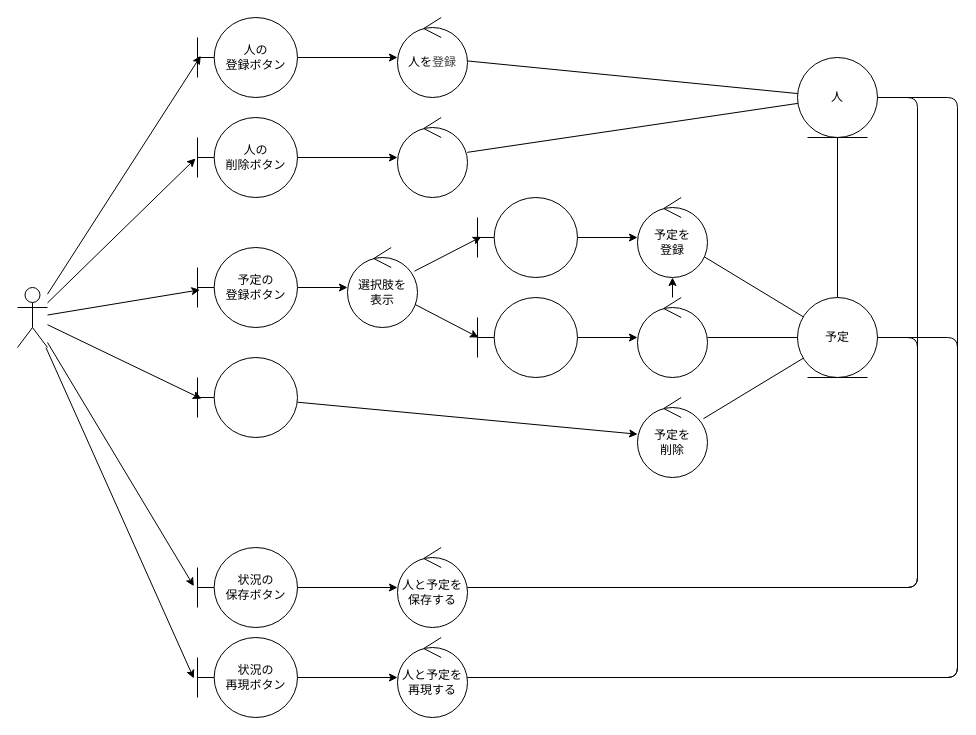
Some shapes in this 976 by 735 pixel diagram are drawn without their labels. The centre of each missing label's shape, as x and y in pixels:
Actor: pixel 32 317
予定の 候補提案 ボタン: pixel 527 337
予定の 削除ボタン: pixel 247 397
予定の 新規登録 ボタン: pixel 527 237
人を削除: pixel 432 157
空き予定 の確認: pixel 672 337
